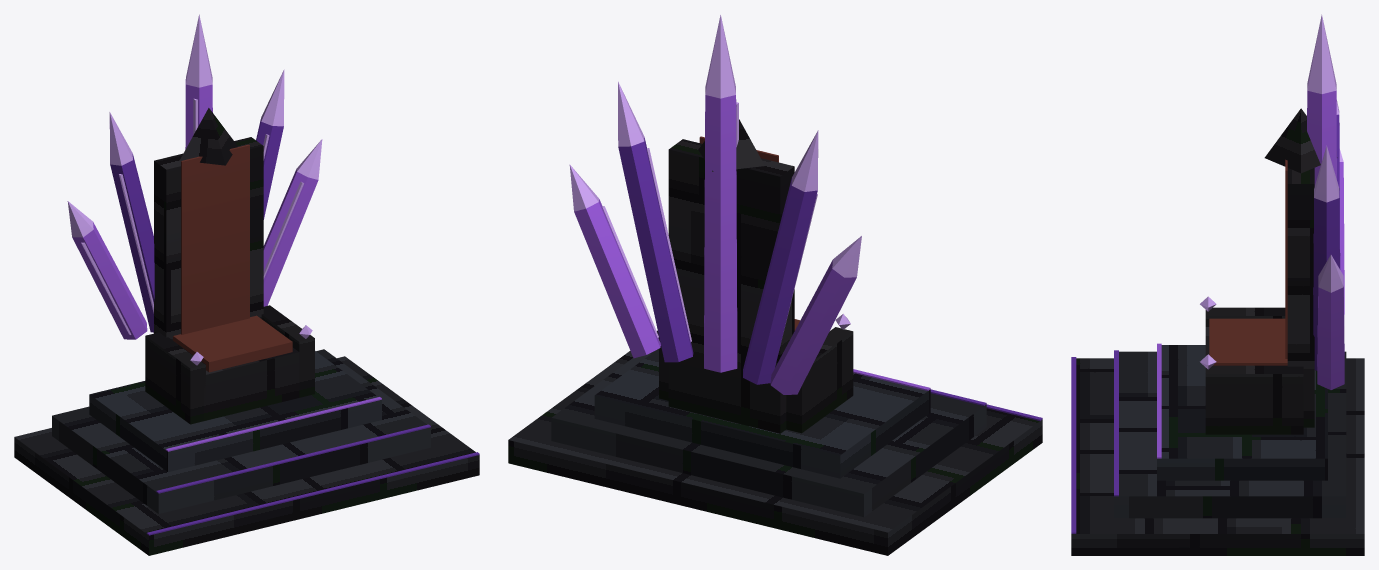
The model's file is sylvaine_throne.glb.
3 views of the same model, side by side, from view 1: azimuth 30°, elevation 25°; view 2: azimuth 150°, elevation 25°; view 3: azimuth 270°, elevation 25° (orthographic). The views are drawn at different scales.
Visible parts, largest first — view 1: sylvaine_throne; view 2: sylvaine_throne; view 3: sylvaine_throne.
Part boxes in pixels (x1=…): sylvaine_throne: x1=14, y1=14, x2=479, y2=555; sylvaine_throne: x1=508, y1=15, x2=1042, y2=555; sylvaine_throne: x1=1071, y1=14, x2=1364, y2=555.
Size of the model in its own units: 3.4 by 4.1 by 2.4.
3 materials, 1 textured.
